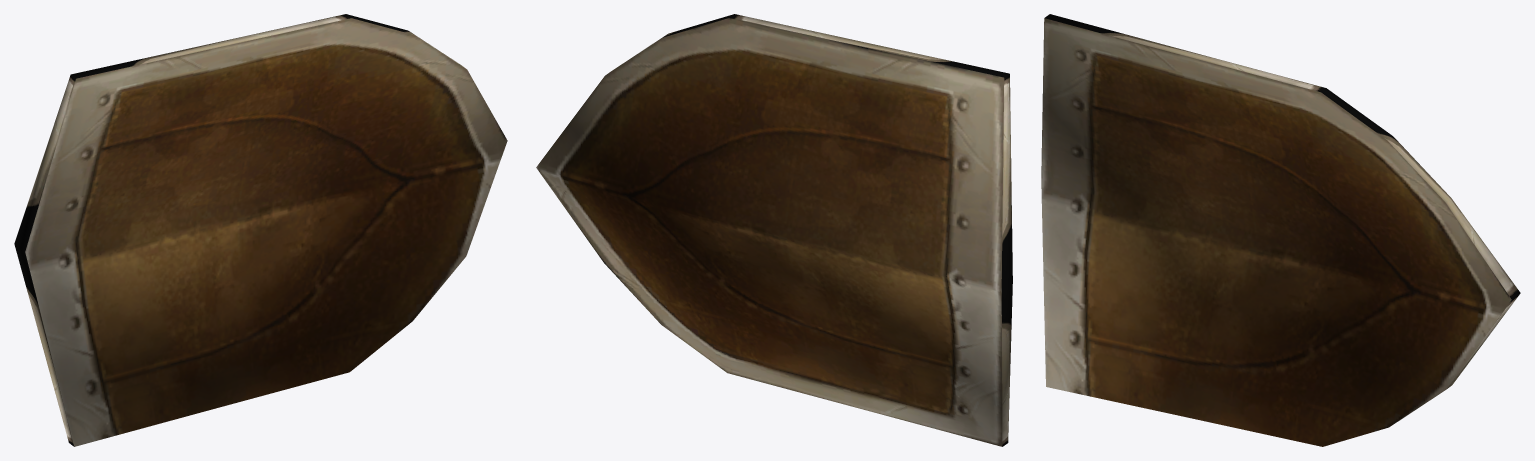
Rendered from small_shield.glb.
3 renders of one model, left to right at view 1: azimuth 30°, elevation 25°; view 2: azimuth 150°, elevation 25°; view 3: azimuth 330°, elevation 25°, orthographic.
Visible parts, largest first — view 1: SmallShield; view 2: SmallShield; view 3: SmallShield.
Boxes of the visible parts, bbox=[...] form: SmallShield: bbox=[14, 14, 507, 446]; SmallShield: bbox=[536, 14, 1012, 446]; SmallShield: bbox=[1041, 14, 1520, 446].
Size of the model in its own units: 0.5471 by 0.4059 by 0.0696.
Materials: 1 (1 with a texture image).
